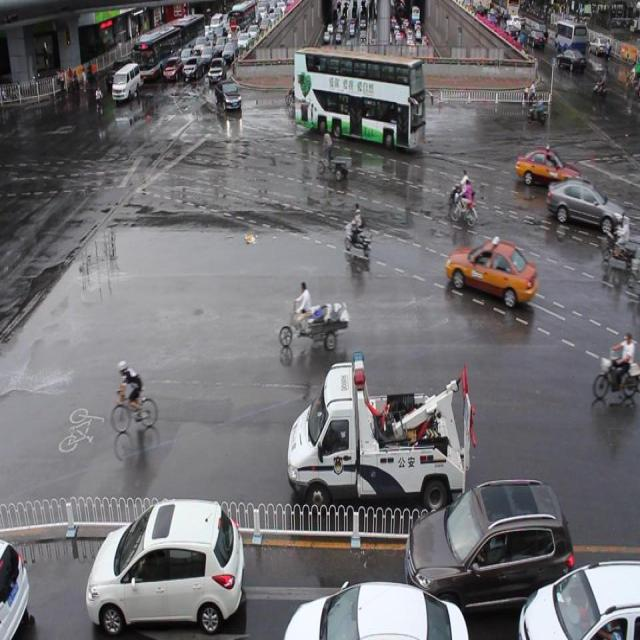bus: (287, 352, 473, 518)
car: (404, 474, 574, 619), (87, 497, 242, 628), (284, 577, 466, 640), (518, 556, 640, 640), (447, 238, 535, 305), (547, 179, 621, 235), (0, 534, 29, 640), (514, 146, 578, 187), (216, 76, 241, 111)
van: (292, 45, 423, 152)
